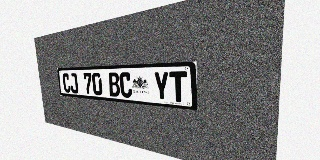0: (91, 73, 103, 95)
7: (83, 73, 93, 95)
B: (108, 72, 120, 97)
C: (119, 72, 132, 98), (62, 73, 71, 93)
J: (69, 73, 79, 93)
T: (169, 71, 187, 103)
Y: (153, 71, 170, 101)
